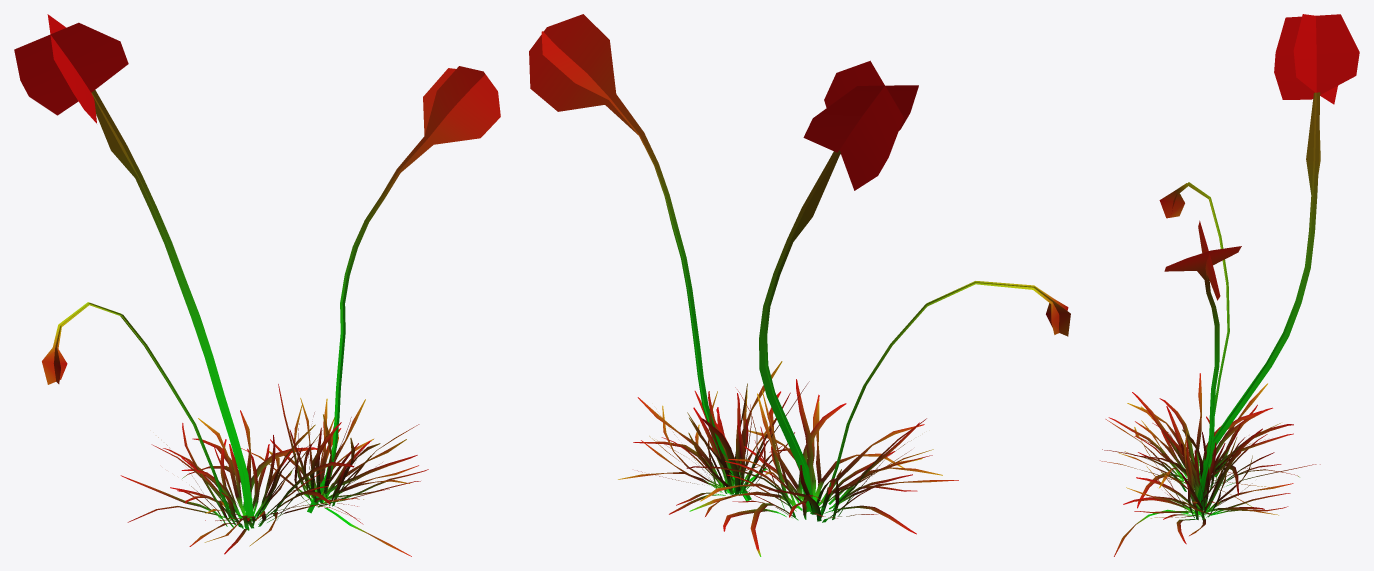
Rendered from Var8_LOD1.fbx.
The picture shows the model from 3 angles, left to right: view 1: azimuth 30°, elevation 25°; view 2: azimuth 150°, elevation 25°; view 3: azimuth 270°, elevation 25°; orthographic projection. The views are drawn at different scales.
Visible parts, largest first — view 1: _9ge4_Var8_LOD1; view 2: _9ge4_Var8_LOD1; view 3: _9ge4_Var8_LOD1.
Part boxes in pixels (x1,y1,x2,y2): _9ge4_Var8_LOD1: (14, 14, 500, 556); _9ge4_Var8_LOD1: (529, 14, 1070, 556); _9ge4_Var8_LOD1: (1100, 14, 1359, 556).
Bounding box in the file's own units: 13.36 × 13.76 × 7.27.
